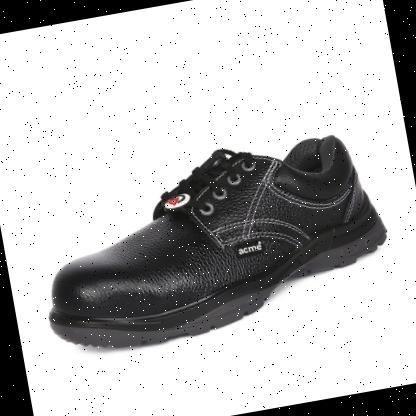bota: (18, 118, 404, 366)
